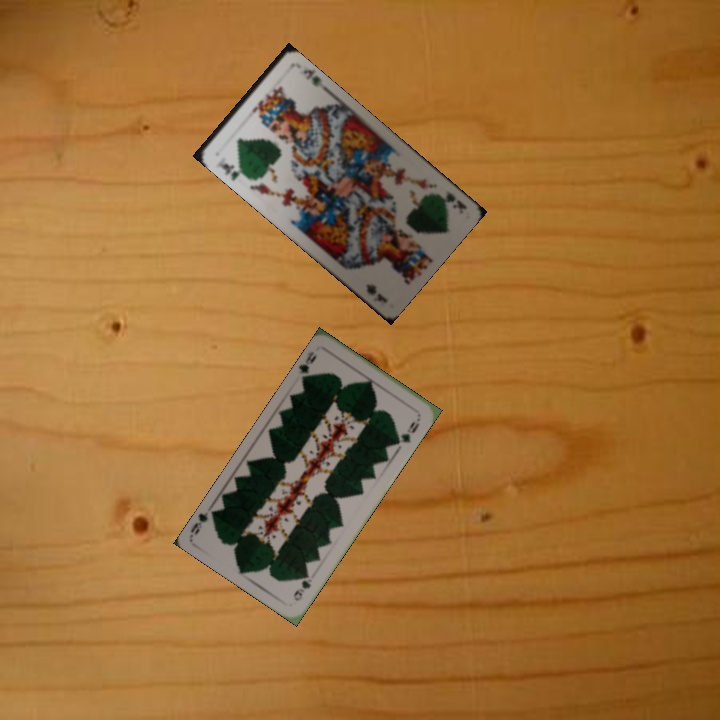G9: (289, 569, 314, 604), (296, 347, 319, 383)
GK: (440, 188, 469, 216), (216, 159, 248, 183)
